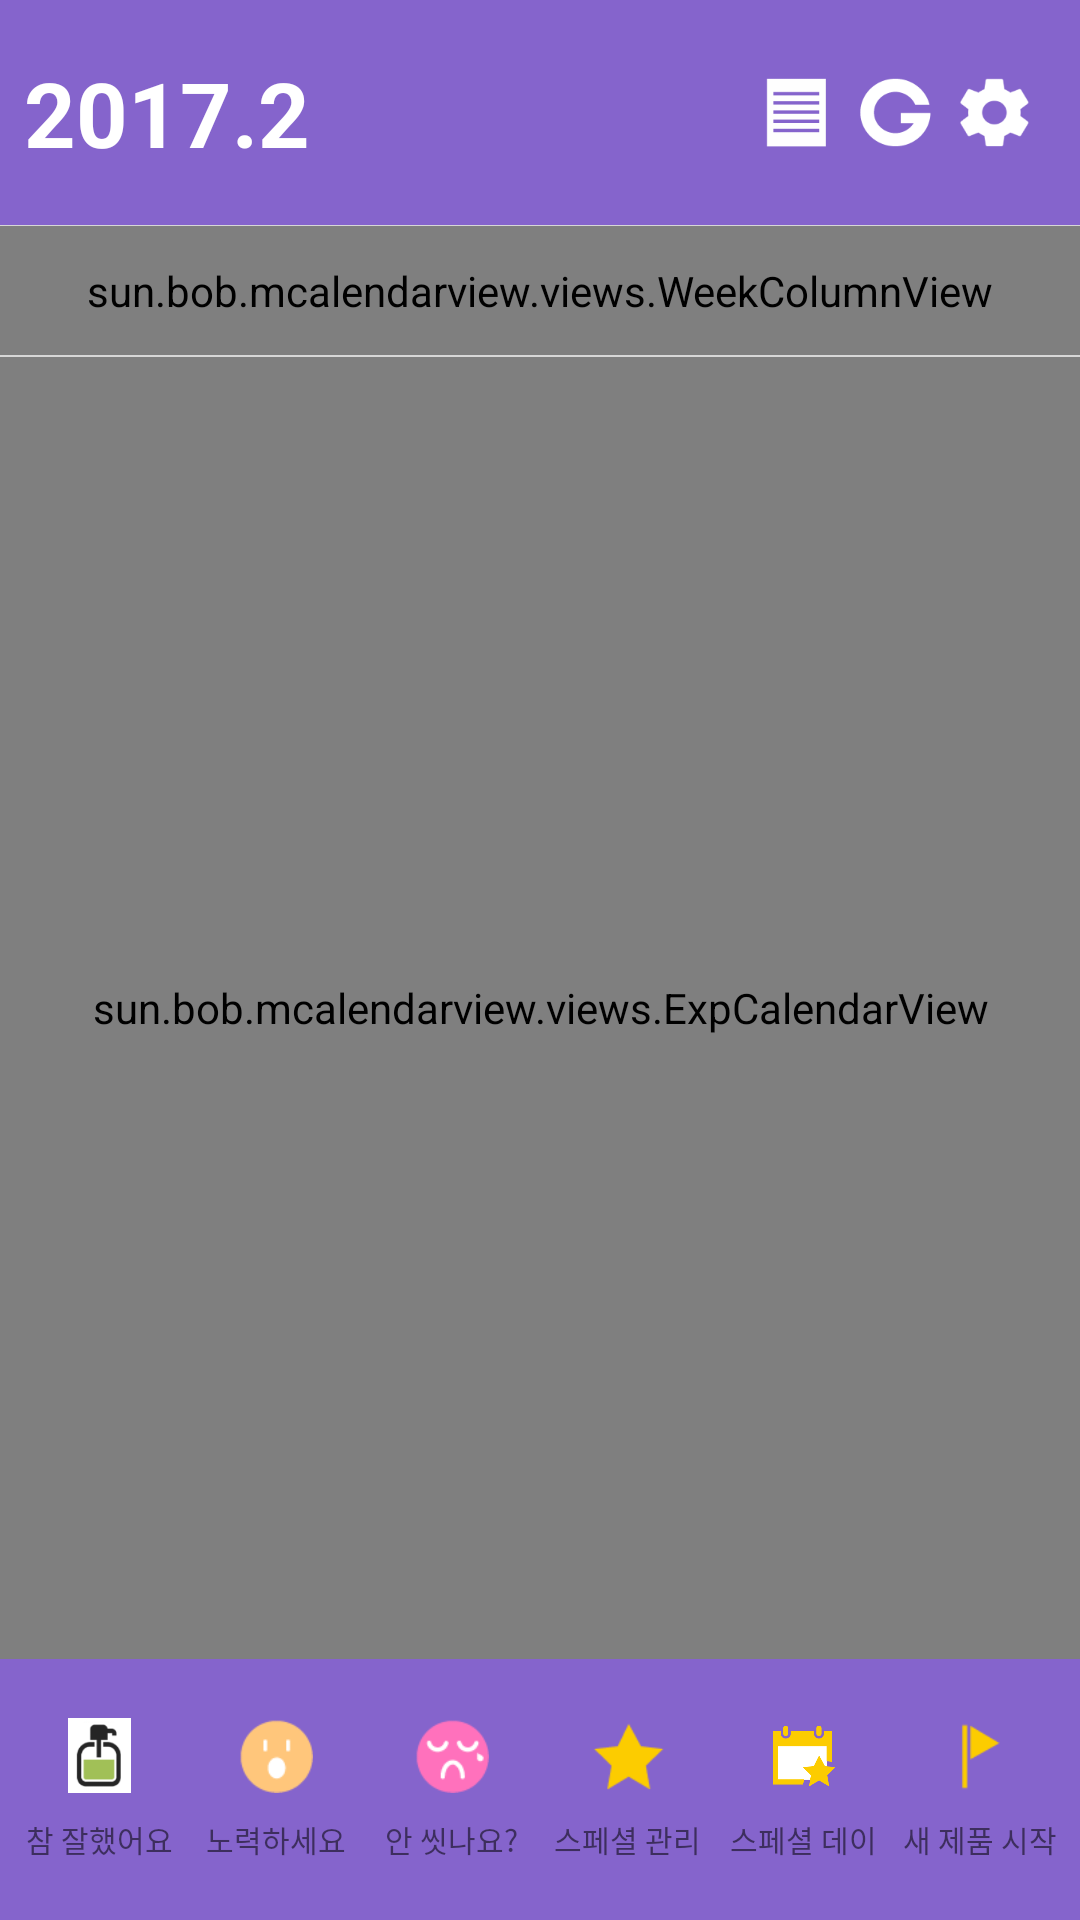

Icons on this 1080×1920 Android screen, each with its box as (x1=x1, y1=y1, x2=x2, y2=y2):
clean bad: (x1=416, y1=1720, x2=489, y2=1793)
clean very good: (x1=68, y1=1718, x2=131, y2=1793)
report: (x1=767, y1=78, x2=826, y2=147)
setting: (x1=960, y1=79, x2=1029, y2=147)
